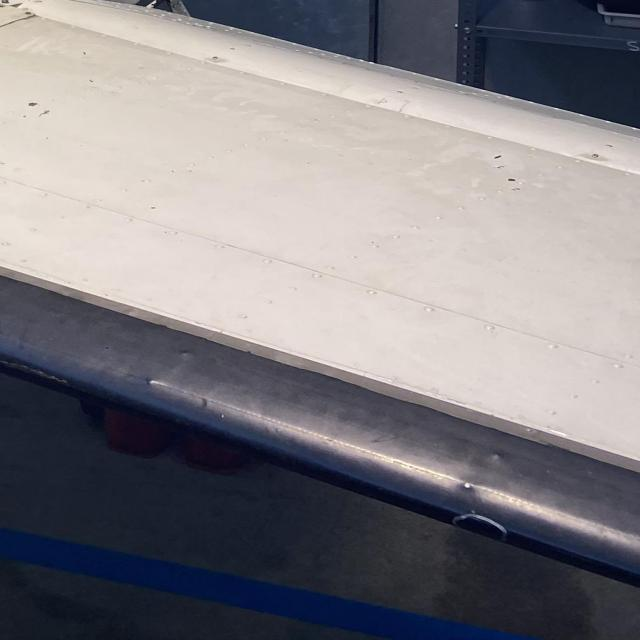Paint-off: (490, 150, 530, 205), (38, 110, 51, 117), (28, 102, 39, 107)
